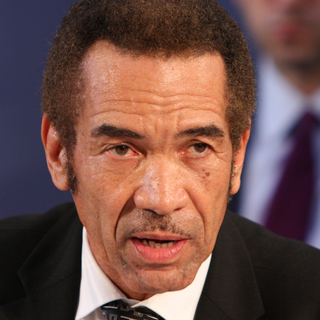eye: (94, 140, 150, 166), (175, 138, 217, 162)
